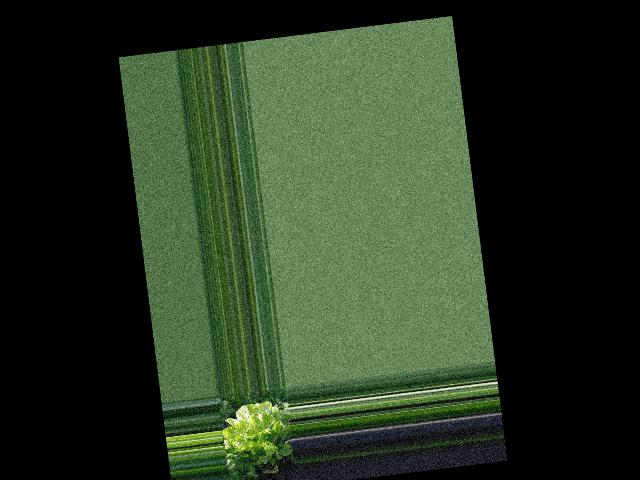lettuce: (226, 400, 293, 465)
